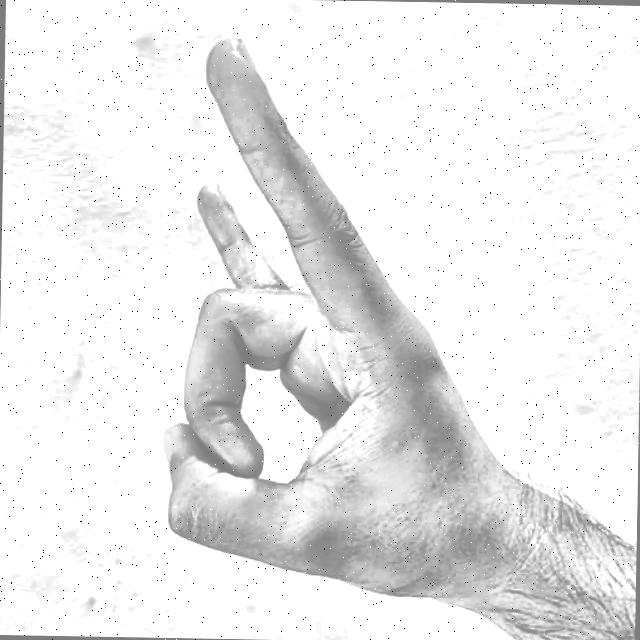Cha: (90, 17, 521, 640)
